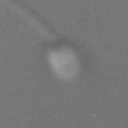normal: (7, 1, 59, 43)
